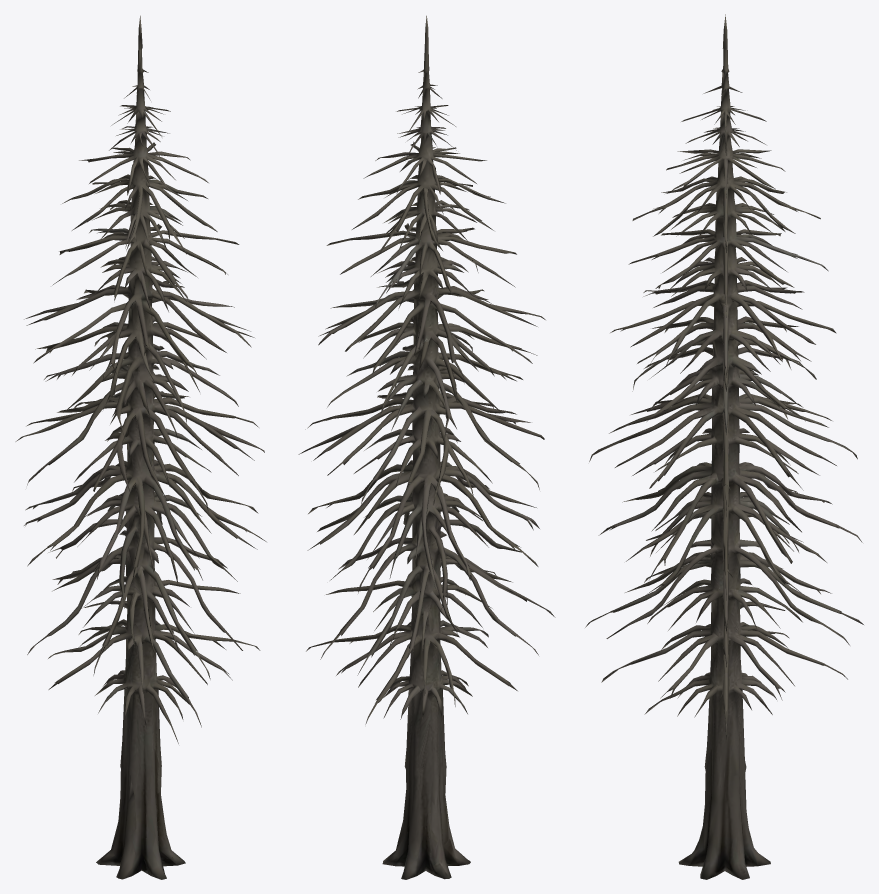
File: spruce1.opt.glb
3 renders of one model, left to right at view 1: azimuth 30°, elevation 25°; view 2: azimuth 150°, elevation 25°; view 3: azimuth 270°, elevation 25°, orthographic.
Visible parts, largest first — view 1: node_0; view 2: node_0; view 3: node_0.
Part boxes in pixels (x1,y1,x2,y2): node_0: [15, 15, 266, 879]; node_0: [298, 15, 555, 879]; node_0: [585, 14, 863, 879].
Bounding box in the file's own units: 0.3465 × 1.19 × 0.3581.
Materials: 1 (1 with a texture image).
